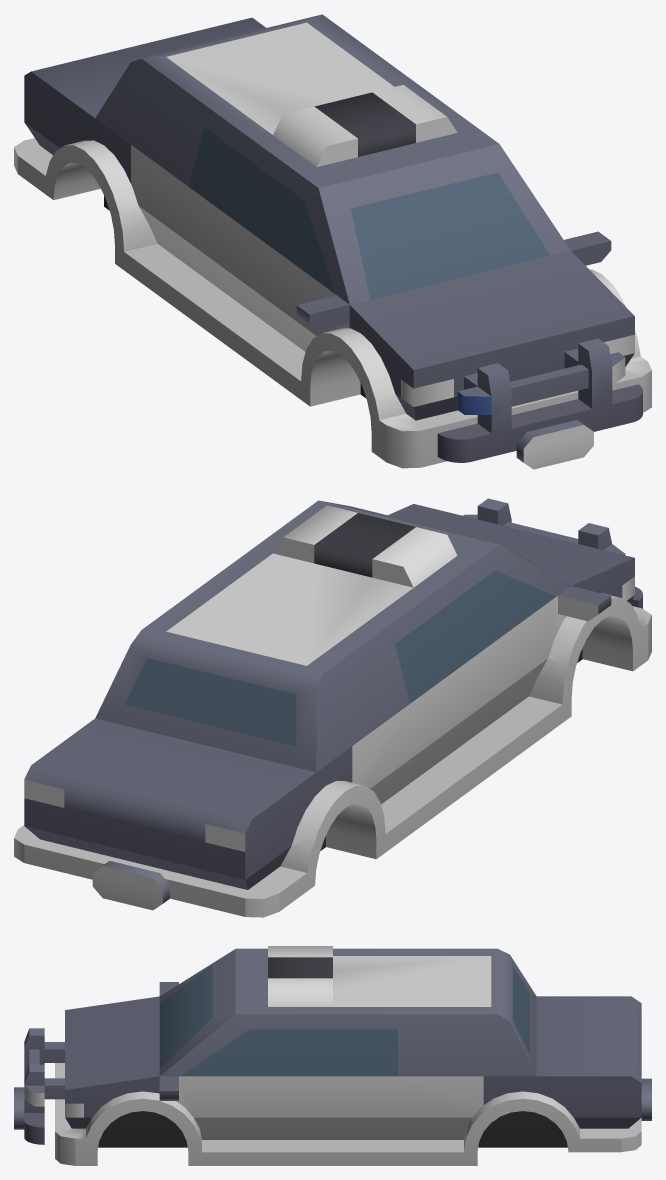
File: police.glb
The picture shows the model from 3 angles, top to bottom: view 1: azimuth 30°, elevation 25°; view 2: azimuth 150°, elevation 25°; view 3: azimuth 270°, elevation 25°; orthographic projection. The views are drawn at different scales.
Visible parts, largest first — view 1: trim, paint, glass, light_bar_b, light_bar_r, light_head; view 2: trim, paint, glass, light_bar_b, light_bar_r, light_tail; view 3: trim, paint, glass, light_bar_r, light_bar_b.
Part boxes in pixels (x1,y1,x2,y2): trim: (24, 14, 642, 462); paint: (14, 22, 651, 469); glass: (189, 127, 550, 299); light_bar_b: (273, 106, 357, 166); light_bar_r: (373, 85, 457, 142); light_head: (401, 334, 634, 406); trim: (24, 498, 642, 903); paint: (14, 553, 651, 917); glass: (125, 570, 556, 746); light_bar_b: (372, 527, 457, 587); light_bar_r: (273, 505, 357, 563); light_tail: (24, 779, 245, 851); trim: (14, 948, 651, 1147); paint: (55, 956, 641, 1165); glass: (159, 965, 529, 1076); light_bar_r: (268, 978, 332, 1006); light_bar_b: (268, 946, 332, 957).
Size of the model in its own units: 1.9 by 1.24 by 4.7.
